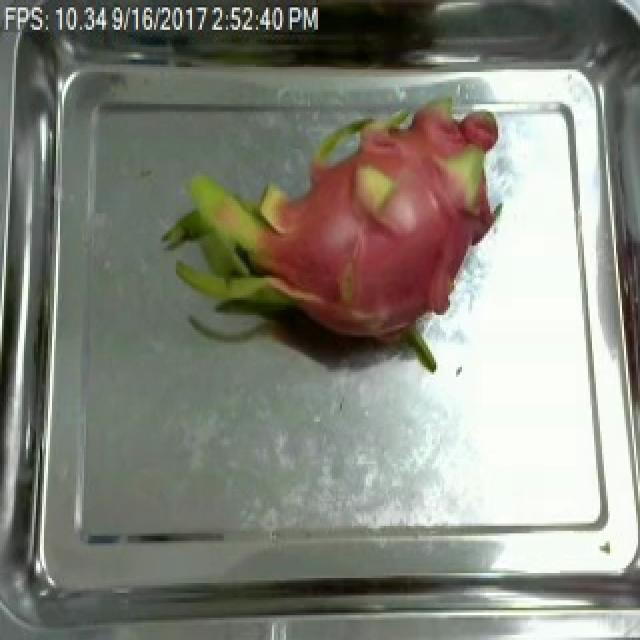fruit: (150, 72, 520, 384)
